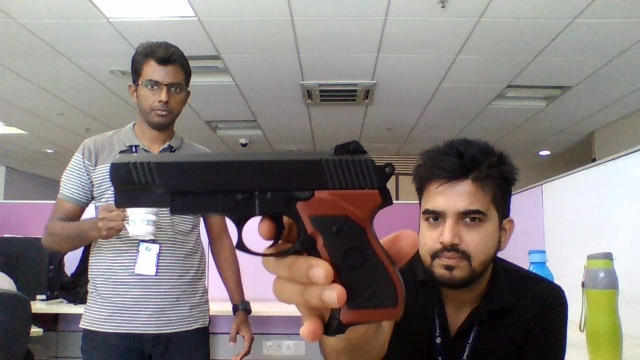gun: (109, 144, 389, 245)
